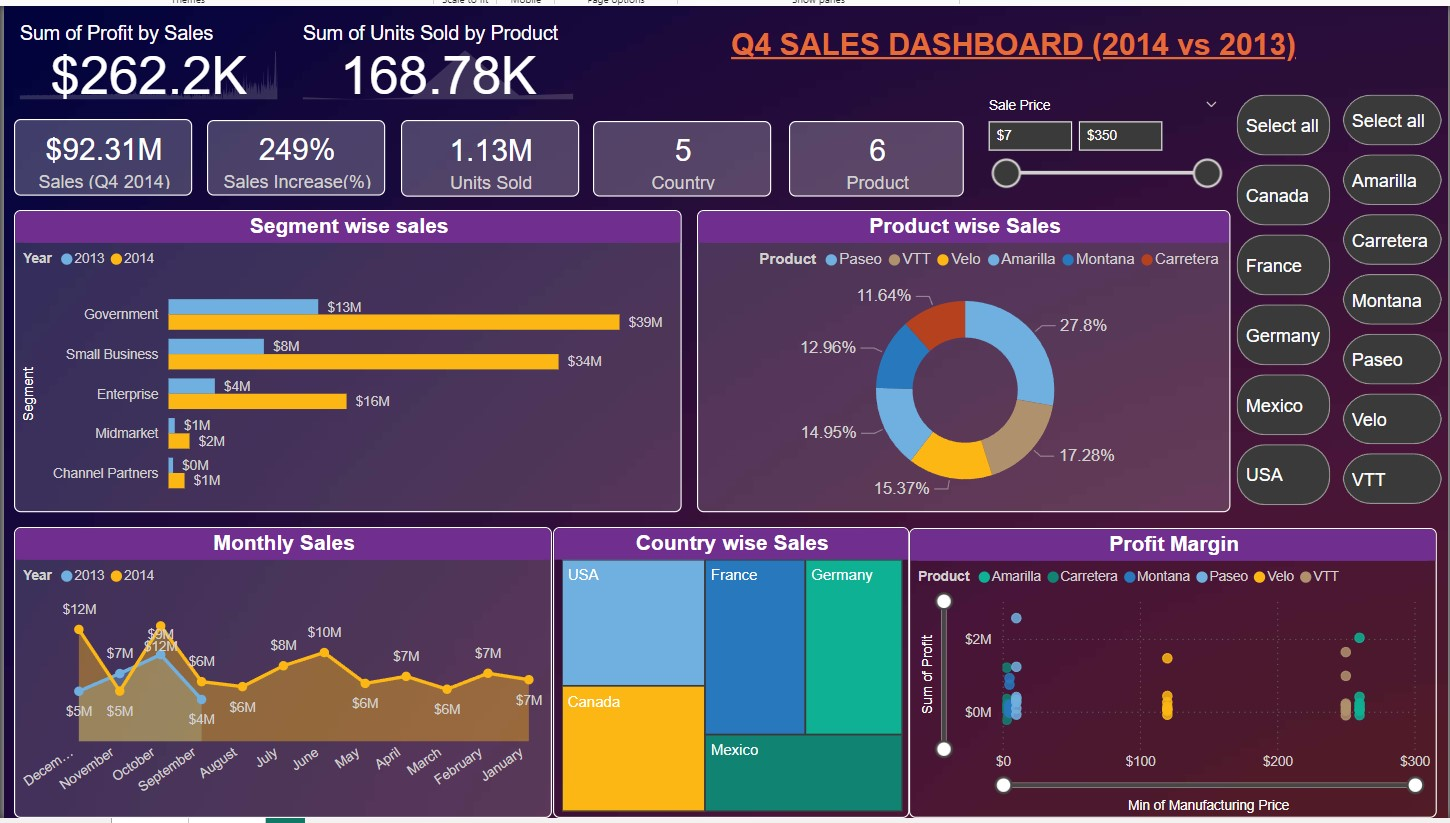

The page's visual inventory and layout, read from the dashboard file:
{"tool":"powerbi","page":{"name":"Page 2","canvas":[1280,720],"ordinal":1},"visuals":[{"type":"areaChart","title":"Monthly Sales","fields":{"Category":["financials.Month Name"],"Y":["Sum(financials. Sales)"],"Series":["financials.Year"]},"box":[8.9,462,477,258],"z":0},{"type":"textbox","box":[509.9,14.2,770.5,48.8],"z":1000},{"type":"treemap","title":"Country wise Sales","fields":{"Group":["financials.Country"],"Values":["Sum(financials. Sales)"]},"box":[486.8,462,315.7,258],"z":2000},{"type":"clusteredBarChart","title":"Segment wise sales","fields":{"Category":["financials.Segment"],"Series":["financials.Year"],"Y":["Sum(financials. Sales)"]},"box":[8.9,180.9,592.3,267.8],"z":3000},{"type":"donutChart","title":"Product wise Sales","fields":{"Category":["financials.Product"],"Y":["Sum(financials. Sales)"]},"box":[614.5,180.9,473.5,267.8],"z":4000},{"type":"card","title":"Sales","fields":{"Values":["financials.Sales (Q4 2014)"]},"box":[8.9,100.2,157.8,68.3],"z":5000},{"type":"card","title":"Sales","fields":{"Values":["financials.Percentage Increase"]},"box":[180,101.1,157.8,67.4],"z":6000},{"type":"card","title":"Sales","fields":{"Values":["Sum(financials.Units Sold)"]},"box":[352,101.1,157.8,68.3],"z":7000},{"type":"scatterChart","title":"Profit Margin","fields":{"Category":["financials.Sale Price"],"X":["Min(financials.Manufacturing Price)"],"Y":["Sum(financials.Profit)"],"Series":["financials.Product"]},"box":[802.5,462.9,468.2,257.1],"z":8000},{"type":"advancedSlicerVisual","fields":{"Values":["financials.Country"]},"box":[1088,72,96,376],"z":9000},{"type":"advancedSlicerVisual","fields":{"Values":["financials.Product"]},"box":[1182,73.6,98.4,375.1],"z":10000},{"type":"card","title":"Sales","fields":{"Values":["Count(financials.Country)"]},"box":[522.3,102,157.8,67.4],"z":11000},{"type":"card","title":"Sales","fields":{"Values":["Count(financials.Product)"]},"box":[696.1,102,155.2,67.4],"z":12000},{"type":"slicer","fields":{"Values":["financials.Sale Price"]},"box":[860.1,76.3,227.9,93.1],"z":13000},{"type":"kpi","fields":{"TrendLine":["financials. Sales"],"Indicator":["Sum(financials.Profit)"]},"box":[8.9,14.2,238.5,73.6],"z":14000},{"type":"kpi","fields":{"Indicator":["Sum(financials.Units Sold)"],"TrendLine":["financials.Product"]},"box":[259.8,14.2,250,73.6],"z":15000}]}

Visuals, with their boxes on the page's 1280x720 design canvas (x1, y1, x2, y2). These are canvas units, not pixel positions in the 1450x823 screenshot, which may show the page scaled, cropped or inside an application window:
"Monthly Sales" areaChart: bbox=(9, 462, 486, 720)
textbox: bbox=(510, 14, 1280, 63)
"Country wise Sales" treemap: bbox=(487, 462, 802, 720)
"Segment wise sales" clusteredBarChart: bbox=(9, 181, 601, 449)
"Product wise Sales" donutChart: bbox=(614, 181, 1088, 449)
"Sales" card: bbox=(9, 100, 167, 168)
"Sales" card: bbox=(180, 101, 338, 168)
"Sales" card: bbox=(352, 101, 510, 169)
"Profit Margin" scatterChart: bbox=(802, 463, 1271, 720)
advancedSlicerVisual - financials.Country: bbox=(1088, 72, 1184, 448)
advancedSlicerVisual - financials.Product: bbox=(1182, 74, 1280, 449)
"Sales" card: bbox=(522, 102, 680, 169)
"Sales" card: bbox=(696, 102, 851, 169)
slicer - financials.Sale Price: bbox=(860, 76, 1088, 169)
kpi - financials. Sales x Sum(financials.Profit): bbox=(9, 14, 247, 88)
kpi - Sum(financials.Units Sold) x financials.Product: bbox=(260, 14, 510, 88)
